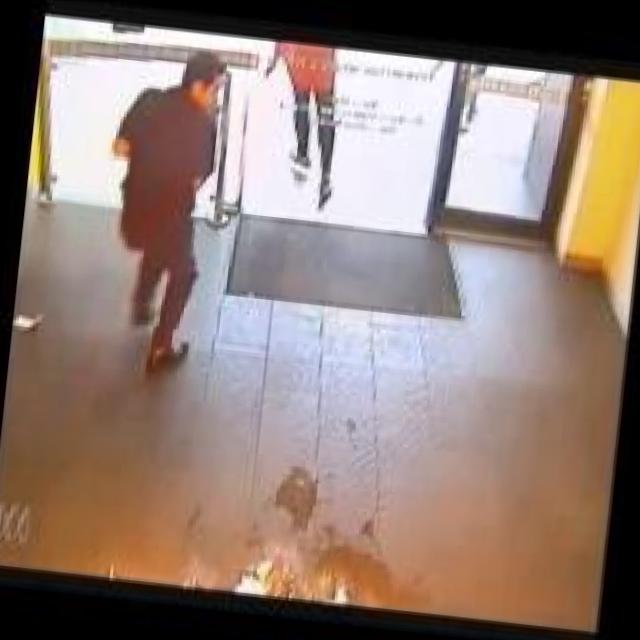fire: (180, 534, 373, 609)
